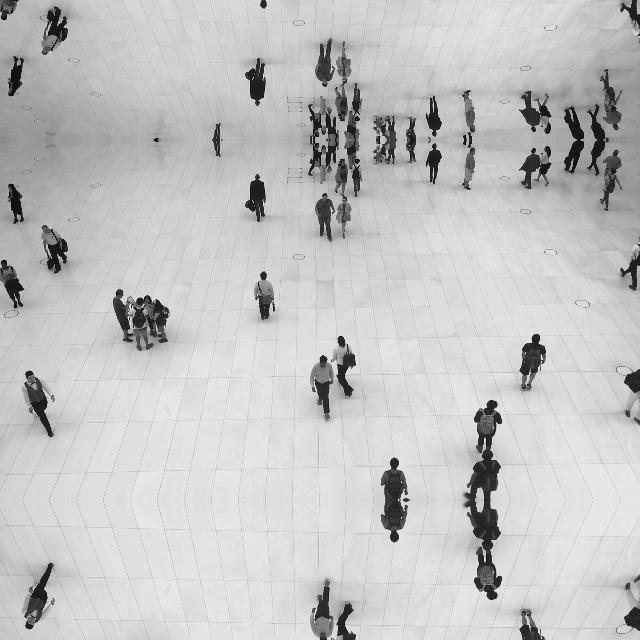person: (22, 370, 54, 438), (22, 562, 54, 630), (464, 450, 502, 500), (464, 500, 502, 550), (473, 399, 503, 457), (473, 543, 503, 601), (310, 354, 334, 422), (519, 333, 547, 391), (309, 578, 334, 640), (330, 336, 354, 398), (128, 297, 154, 351), (41, 224, 68, 274), (41, 6, 68, 56), (379, 456, 408, 499), (379, 501, 408, 544), (0, 259, 24, 309), (619, 236, 640, 291), (112, 290, 134, 342), (254, 271, 276, 321), (314, 192, 336, 242), (314, 38, 336, 88), (245, 57, 267, 106), (245, 174, 267, 222), (600, 168, 624, 212), (600, 68, 624, 112), (623, 368, 640, 426), (623, 574, 640, 632), (330, 601, 354, 640), (519, 148, 541, 190), (519, 90, 541, 132), (150, 298, 170, 344), (619, 0, 640, 43), (519, 609, 547, 640), (335, 197, 353, 240), (335, 41, 353, 84), (425, 143, 443, 185), (425, 95, 443, 137), (563, 140, 585, 174), (563, 106, 585, 140), (7, 183, 25, 224), (534, 146, 552, 187), (586, 140, 606, 176), (7, 56, 25, 96), (534, 94, 552, 134), (586, 104, 606, 140), (334, 158, 350, 198), (334, 82, 350, 122), (143, 294, 157, 338), (462, 146, 476, 190), (462, 90, 476, 134), (602, 148, 622, 176), (318, 96, 332, 136), (318, 144, 332, 183), (602, 105, 622, 132), (0, 0, 24, 21), (351, 158, 363, 198), (308, 142, 322, 176), (344, 140, 361, 168), (308, 104, 322, 138), (344, 112, 361, 140), (351, 82, 363, 121), (380, 140, 398, 164), (380, 116, 398, 140), (326, 140, 339, 164), (326, 116, 339, 140), (373, 140, 383, 164), (373, 116, 383, 140), (406, 116, 416, 140), (406, 140, 416, 163), (254, 0, 276, 9), (212, 140, 222, 156), (212, 124, 222, 140), (462, 140, 473, 148), (462, 132, 473, 140)
